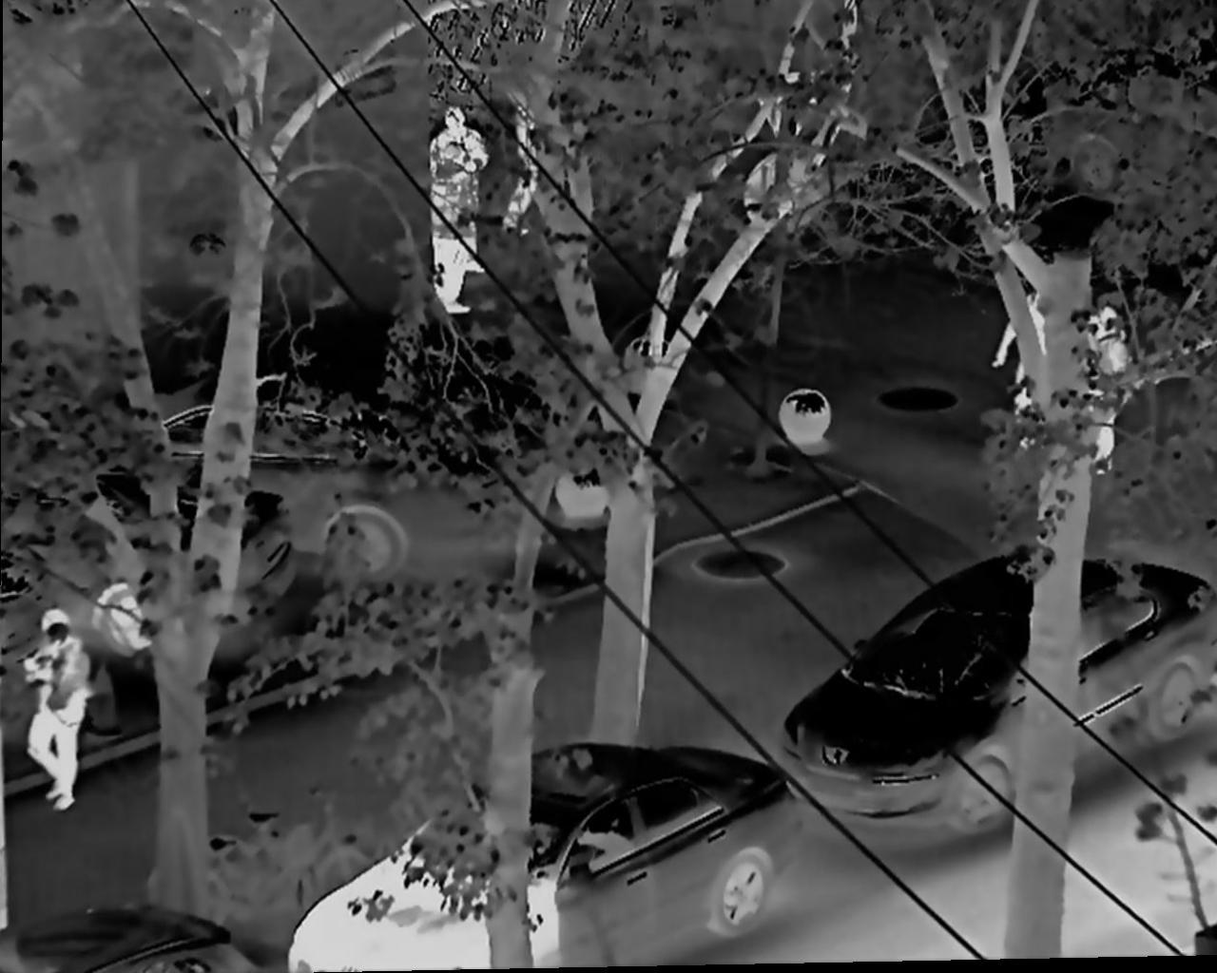person: (18, 608, 91, 814), (433, 107, 496, 272), (992, 279, 1045, 450), (432, 143, 476, 314), (1095, 304, 1131, 476)
